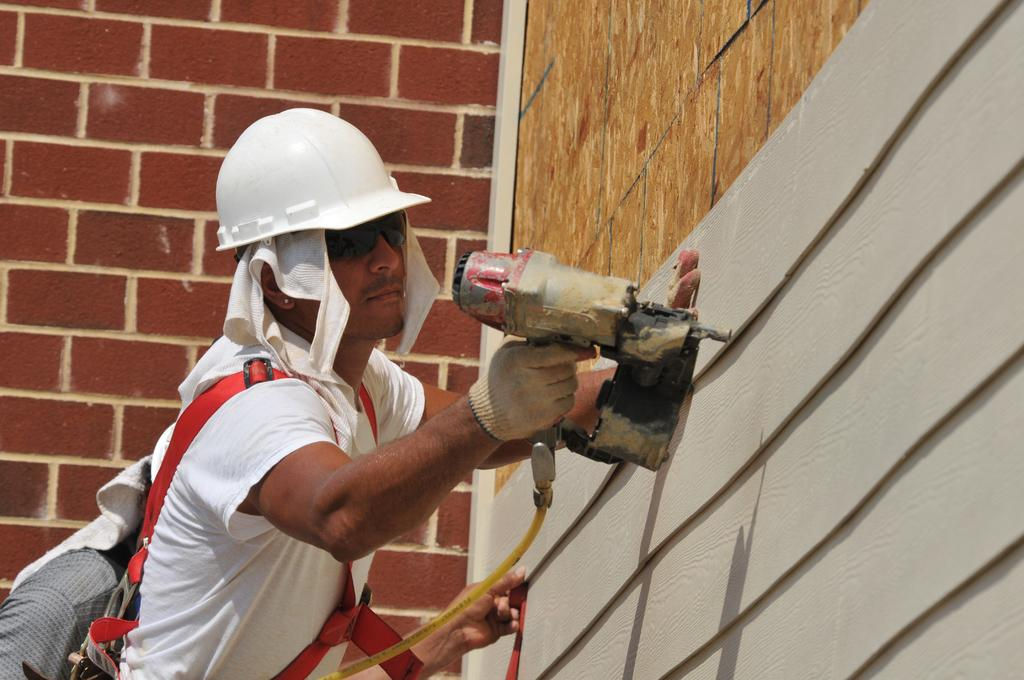helmet: (216, 108, 432, 334)
